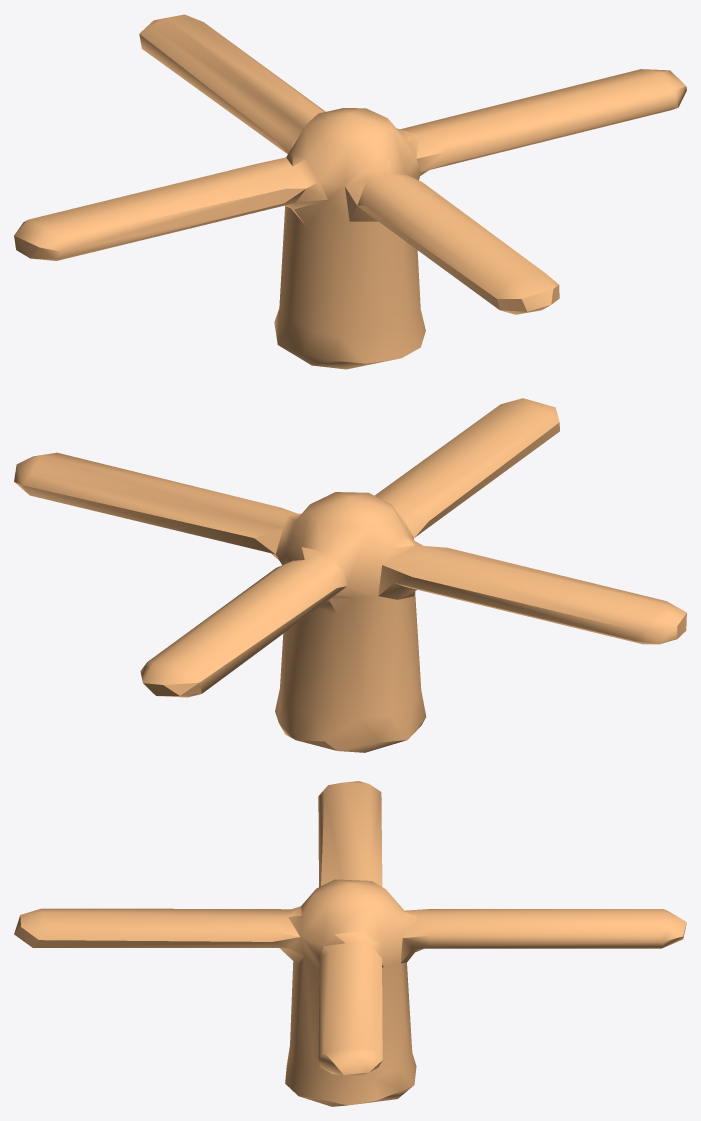
The model's file is fan.glb.
3 renders of one model, top to bottom at view 1: azimuth 30°, elevation 25°; view 2: azimuth 150°, elevation 25°; view 3: azimuth 270°, elevation 25°, orthographic. The views are drawn at different scales.
Visible parts, largest first — view 1: fan; view 2: fan; view 3: fan.
Part boxes in pixels (x1=…): fan: x1=14, y1=14, x2=686, y2=369; fan: x1=14, y1=398, x2=686, y2=752; fan: x1=14, y1=781, x2=686, y2=1106.
Size of the model in its own units: 8.71 by 2.84 by 8.71.
